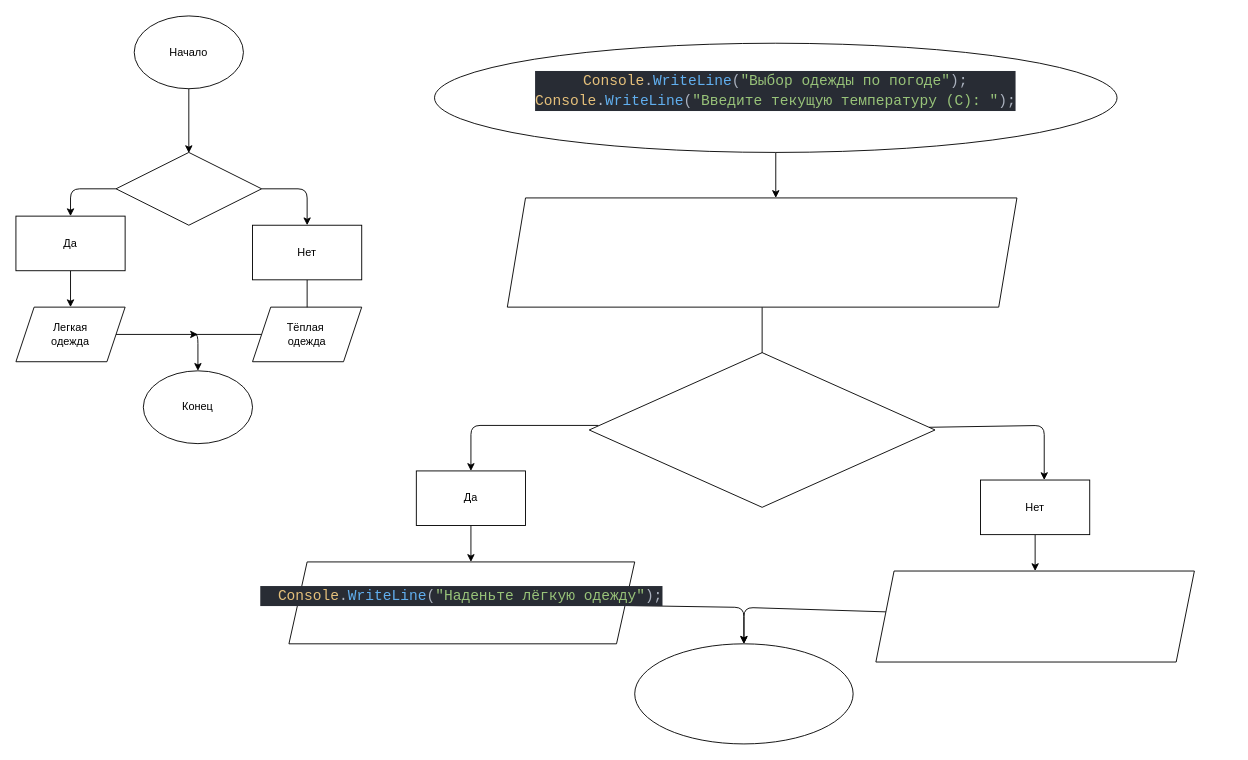
This 1248x760 diagram has some shape labels left out. Here are the shapes that lost their labels. From the top down, the box of each, then its label:
(115, 152, 262, 225): Темпенратура >= 20 C?
(506, 197, 1017, 307): int temperature = Convert . ToInt32 ( Console . ReadLine ());
(588, 352, 935, 507): if ( temperature >= 20 )
(875, 570, 1194, 662): Console . WriteLine ( "Наденьте тёплую одежду" );
(634, 643, 853, 744): Console . WriteLine ( "Хорошего дня!" );
